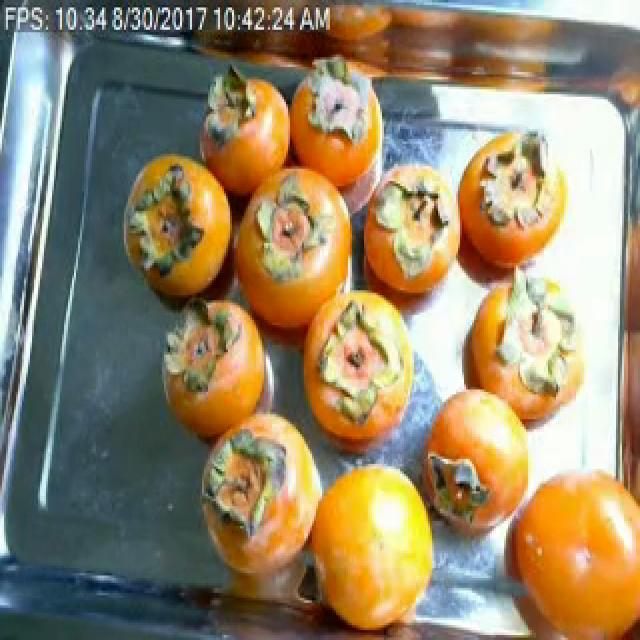Fruit: (292, 444, 440, 640)
